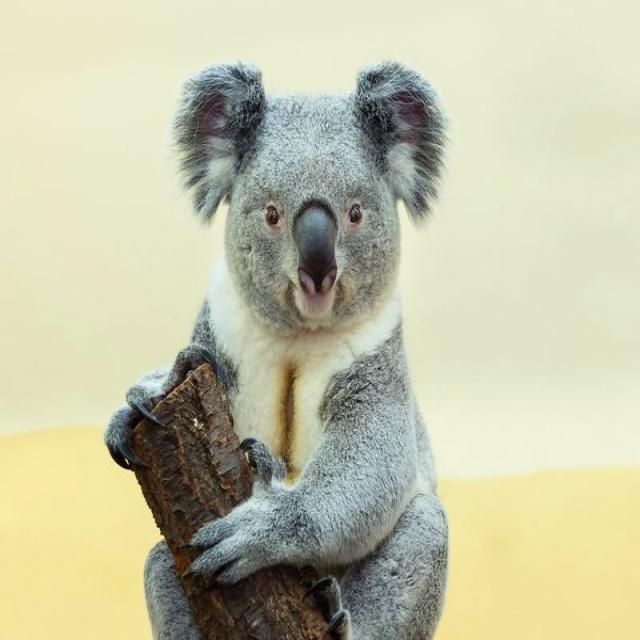koala: (105, 62, 448, 639)
